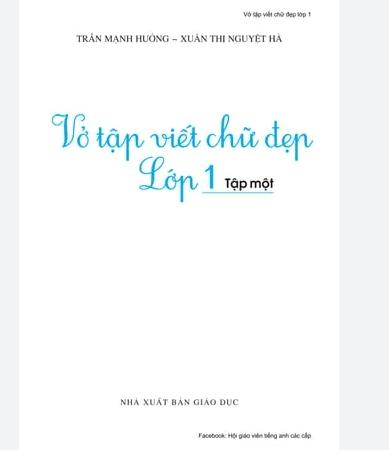text: (49, 111, 316, 161), (135, 156, 275, 204), (75, 32, 283, 44), (197, 431, 315, 442), (118, 397, 240, 407), (241, 10, 312, 18)
